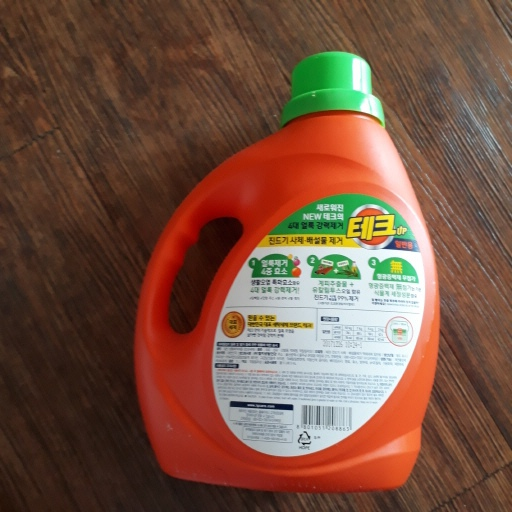Plastic_1: (124, 46, 441, 493)
